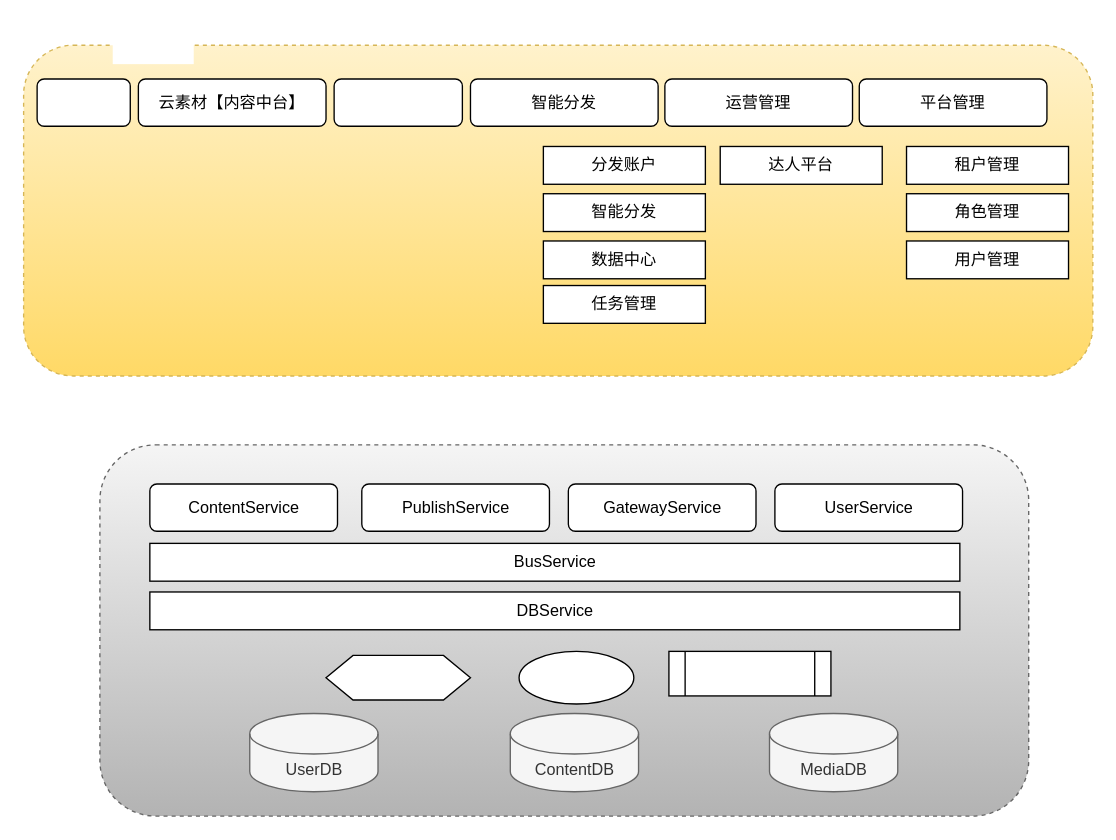
Some shapes in this 1116 by 840 pixel diagram are drawn without their labels. The centre of each missing label's shape, as x and y in pixels:
Flink: the point at 397,677
Kafka: the point at 749,673
Redis: the point at 576,677
介绍: the point at 83,102
创作中心: the point at 397,102
清泉云图: the point at 152,43
